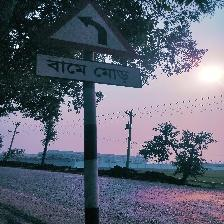Left-Turn: (36, 1, 142, 88)
